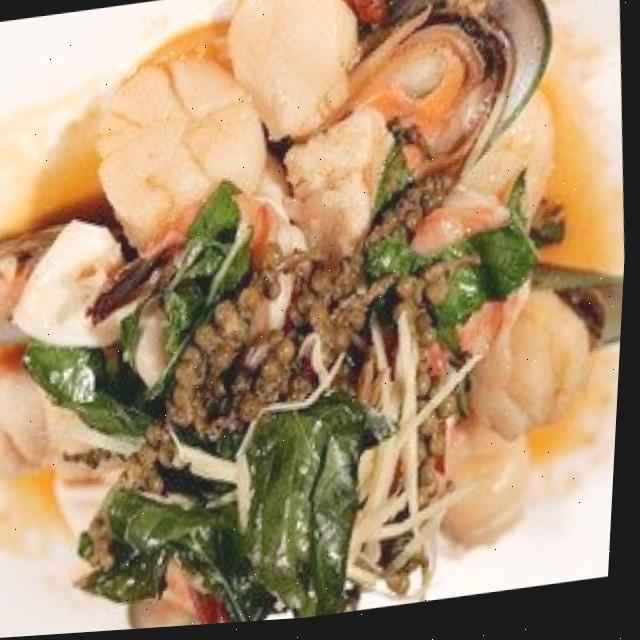牛肉菜式: (0, 0, 630, 640)
